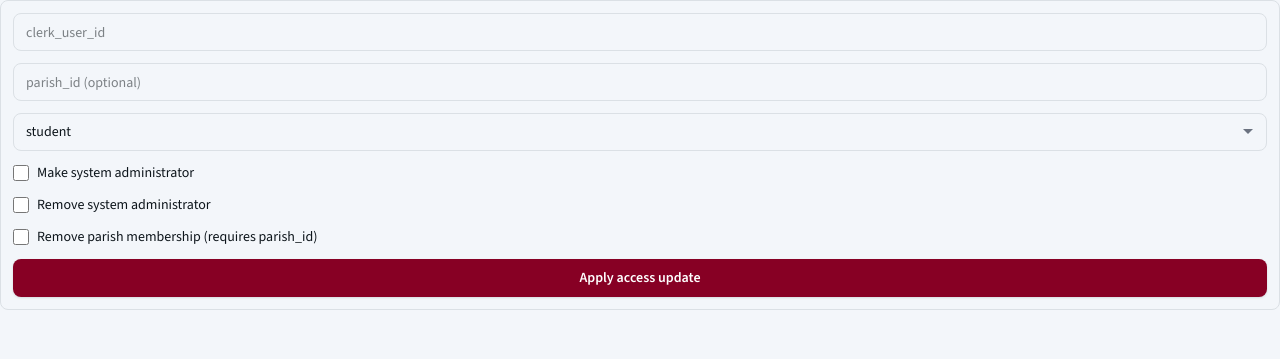
Test: AdminUserAccessManager › shows a failure message when the access request rejects
Click the button "Apply access update" at (640, 278), box x1=13 y1=259 x2=1267 y2=297
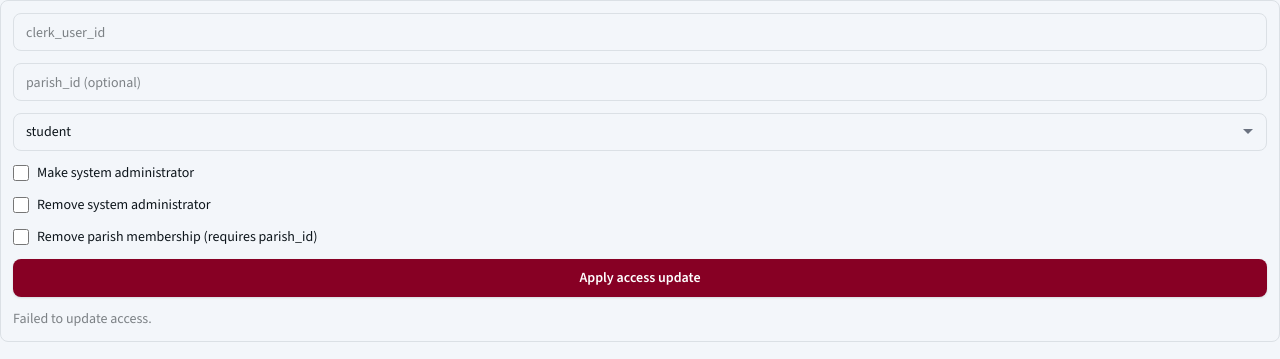
Expected: the text "Failed to update access." is shown, x1=13 y1=309 x2=152 y2=328
